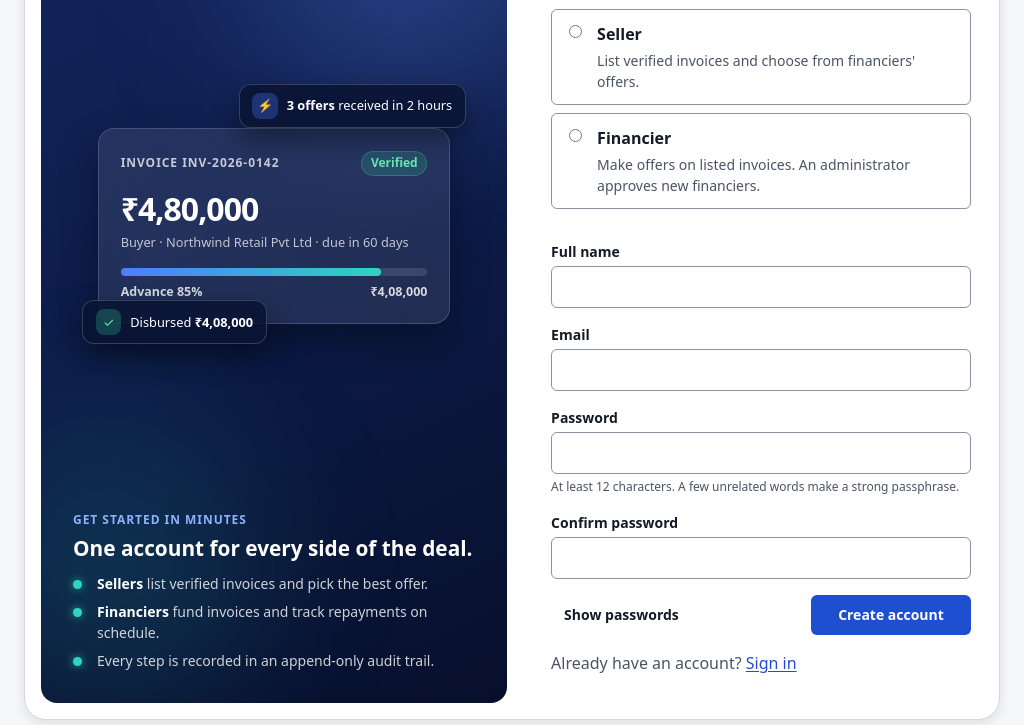
RegisterComponent › explains every missing field, focuses the first one and sends nothing
(page scrolled)
Click the submit button at (891, 615), box [811, 595, 971, 635]
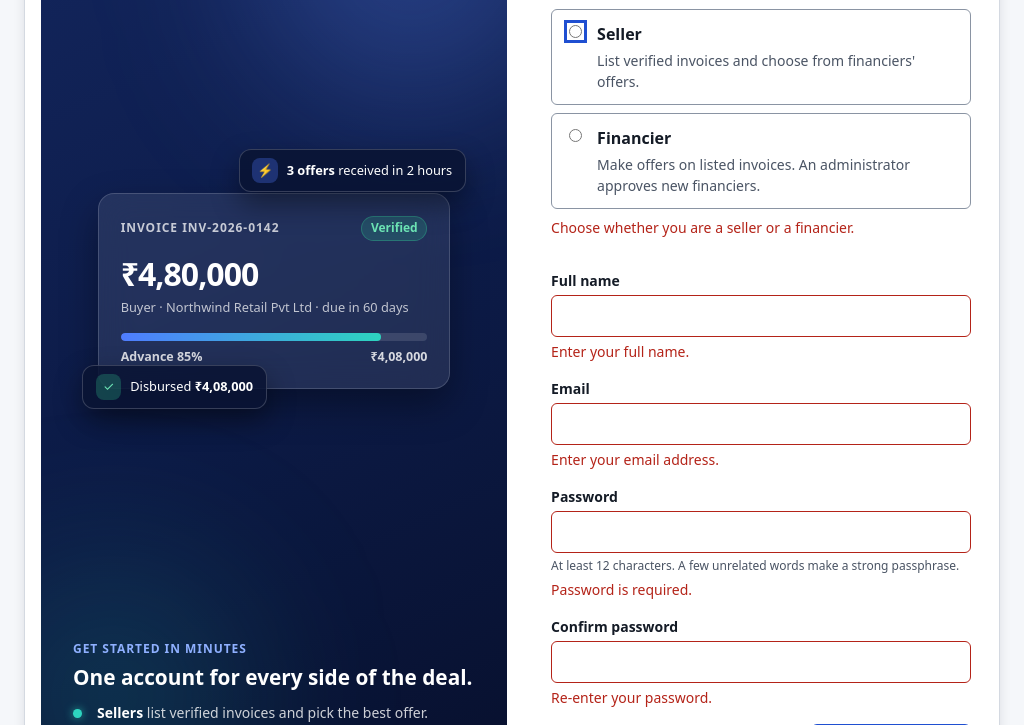
Result: the text "Enter your full name." is shown at [551, 342, 689, 361]
Result: the text "Enter your email address." is shown at [551, 450, 719, 469]
Result: the text "Password is required." is shown at [551, 580, 692, 599]
